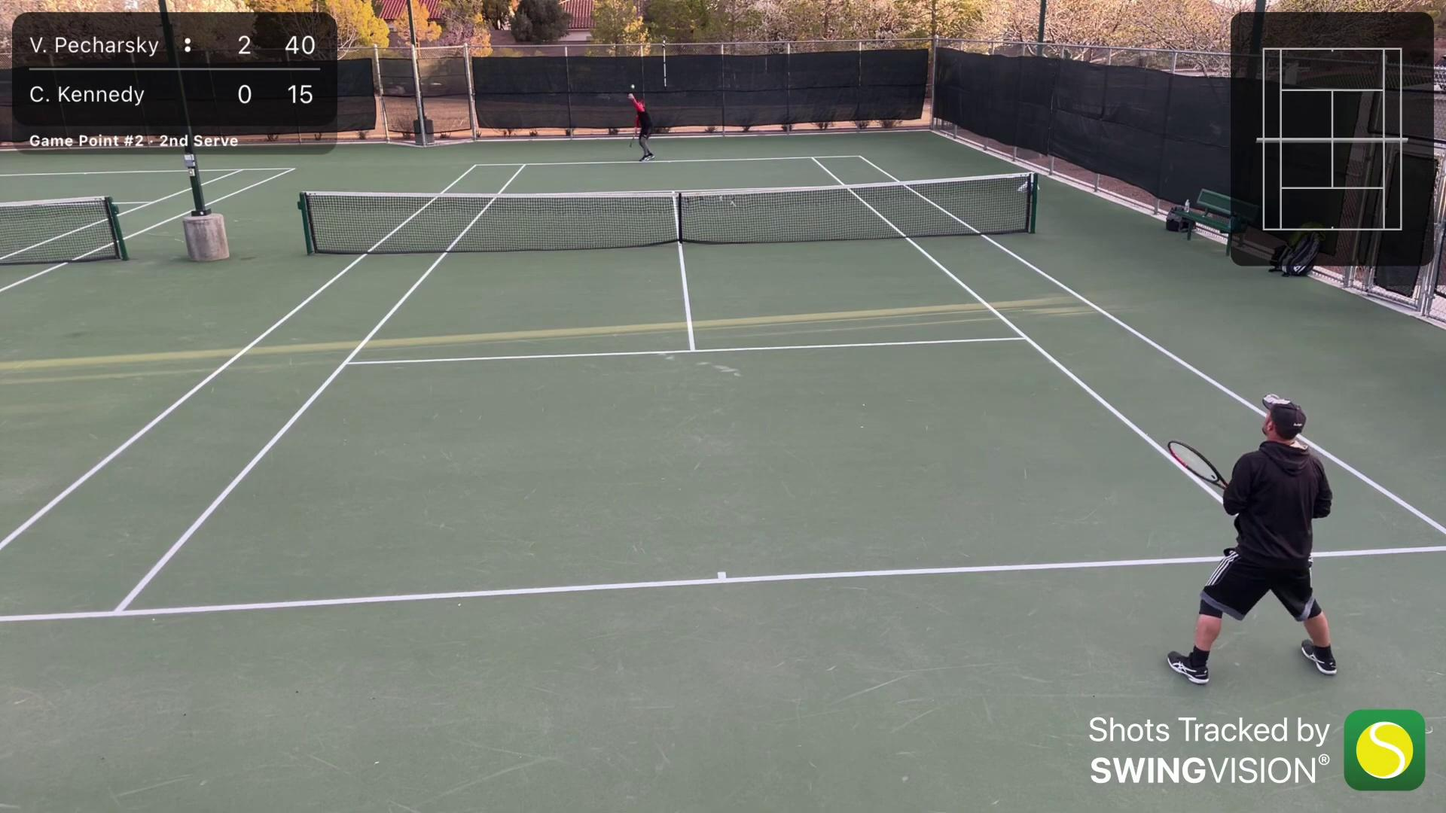ball: (631, 84, 636, 89)
